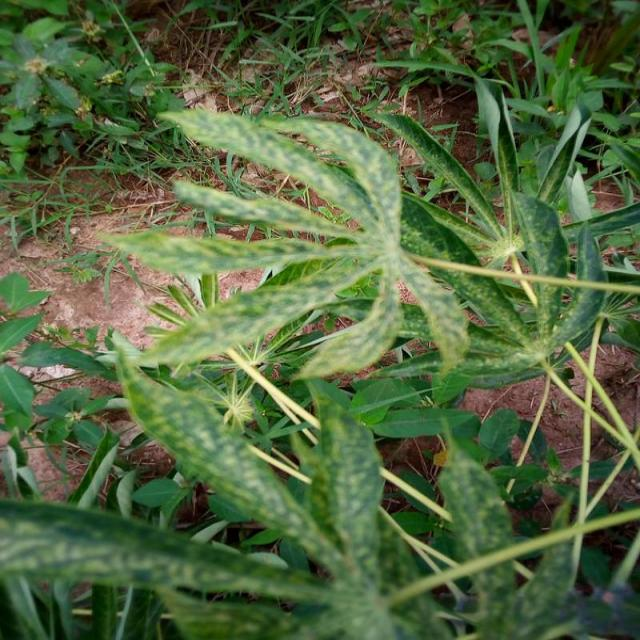cassava leaf: (108, 328, 334, 577)
